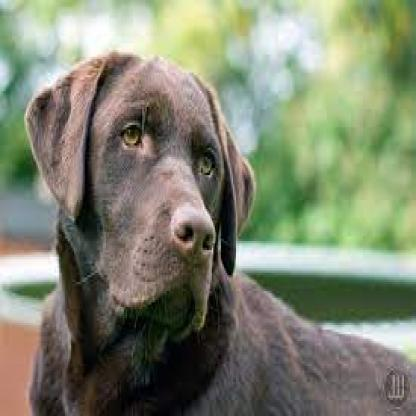Labarador Retriever: (21, 50, 416, 416)
